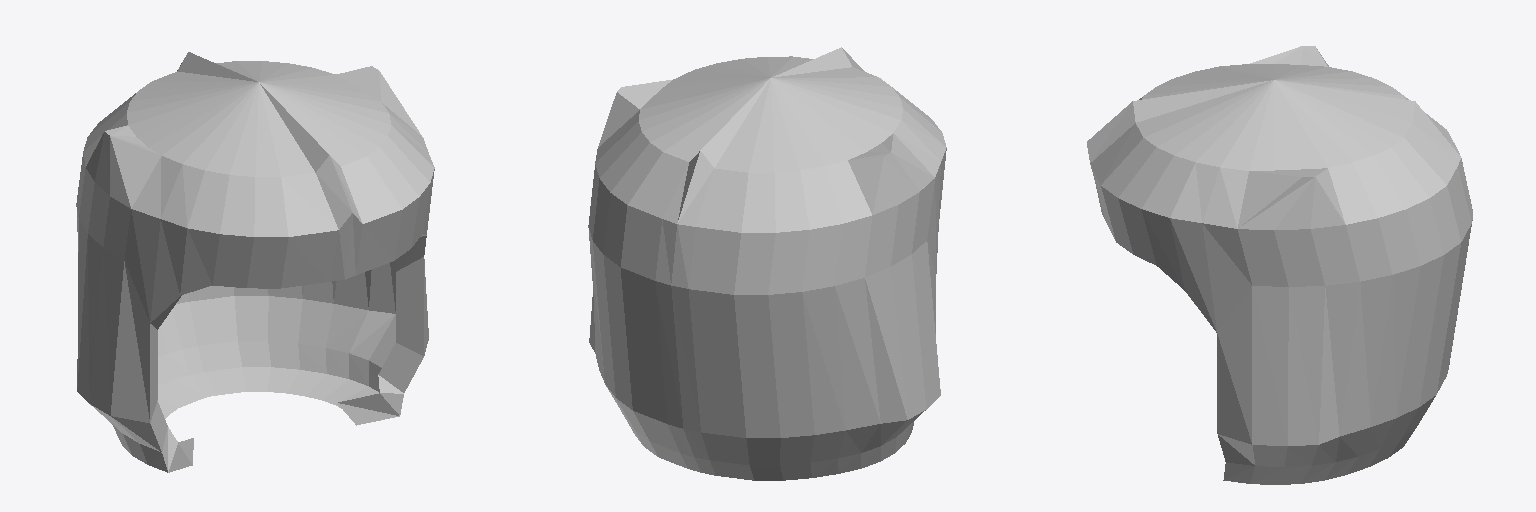
Rendered from character_knightHelmet.obj.
3 views of the same model, side by side, from view 1: azimuth 30°, elevation 25°; view 2: azimuth 150°, elevation 25°; view 3: azimuth 270°, elevation 25° (orthographic).
Visible parts, largest first — view 1: character_knightHelmet_Cylinder.001; view 2: character_knightHelmet_Cylinder.001; view 3: character_knightHelmet_Cylinder.001.
Part boxes in pixels (left/top/right/bottom): character_knightHelmet_Cylinder.001: left=76, top=52, right=434, bottom=472; character_knightHelmet_Cylinder.001: left=588, top=47, right=946, bottom=480; character_knightHelmet_Cylinder.001: left=1087, top=46, right=1472, bottom=484.
Size of the model in its own units: 1.21 by 1.25 by 1.25.